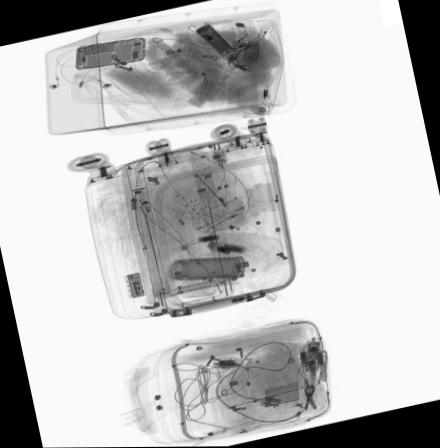Lighter: (252, 21, 273, 45)
